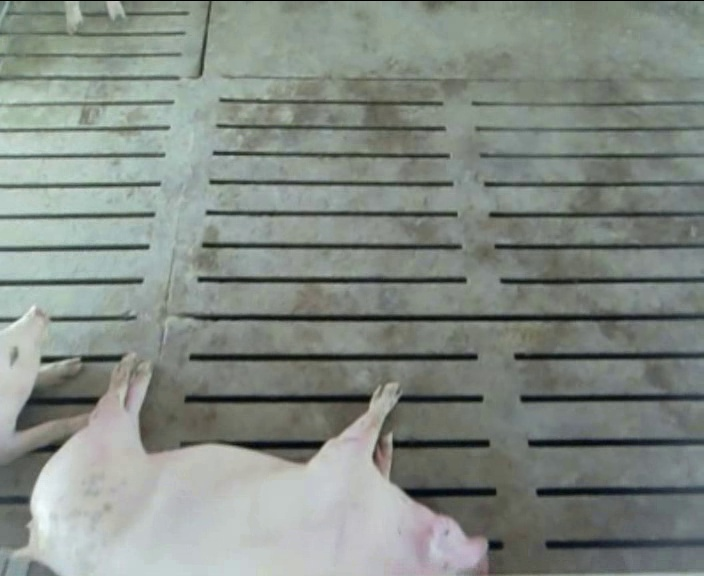pig: (19, 354, 487, 574)
